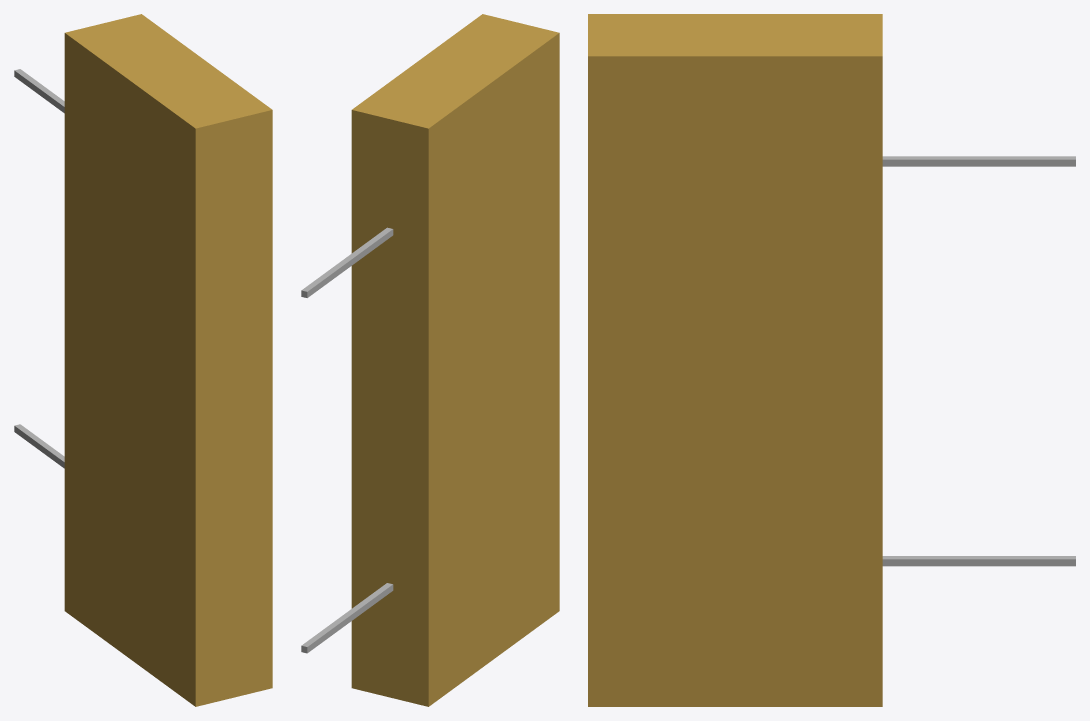
The model's file is light3.fbx.
3 renders of one model, left to right at view 1: azimuth 30°, elevation 25°; view 2: azimuth 150°, elevation 25°; view 3: azimuth 270°, elevation 25°, orthographic. The views are drawn at different scales.
Parts seen in each view (by area): view 1: pCube30, pCube32, pCube31; view 2: pCube30, pCube32, pCube31; view 3: pCube30, pCube31, pCube32.
Boxes of the visible parts, box(x1,y1,x2,y2) form: pCube30: box(64, 14, 272, 706); pCube32: box(14, 424, 64, 468); pCube31: box(14, 69, 64, 113); pCube30: box(351, 14, 559, 706); pCube32: box(301, 583, 393, 653); pCube31: box(301, 227, 393, 297); pCube30: box(588, 14, 882, 706); pCube31: box(882, 156, 1075, 166); pCube32: box(882, 556, 1075, 566).
Bounding box in the file's own units: 2.29 × 16.47 × 11.19.
